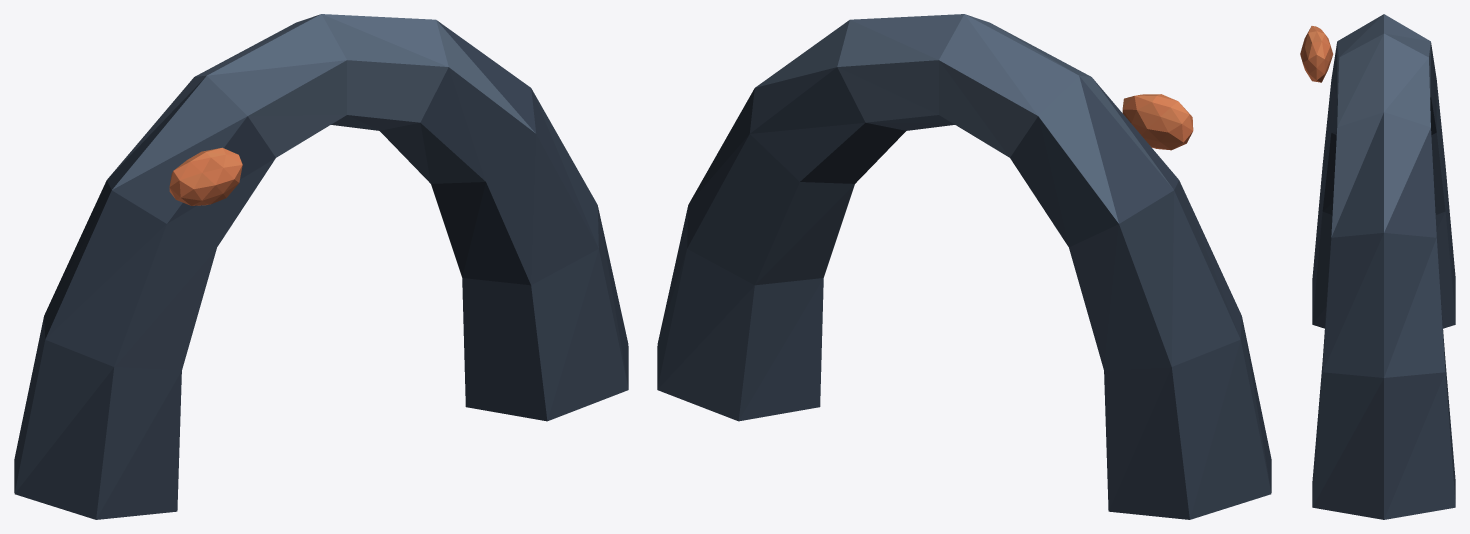
File: bd_z2_rock_arch.glb
3 views of the same model, side by side, from view 1: azimuth 30°, elevation 25°; view 2: azimuth 150°, elevation 25°; view 3: azimuth 270°, elevation 25° (orthographic). The views are drawn at different scales.
Parts seen in each view (by area): view 1: bd_z2_rock_arch; view 2: bd_z2_rock_arch; view 3: bd_z2_rock_arch.
Boxes of the visible parts, bbox=[...] form: bd_z2_rock_arch: bbox=[14, 14, 628, 519]; bd_z2_rock_arch: bbox=[657, 14, 1271, 519]; bd_z2_rock_arch: bbox=[1300, 14, 1455, 519].
Size of the model in its own units: 12 by 8 by 3.01.
